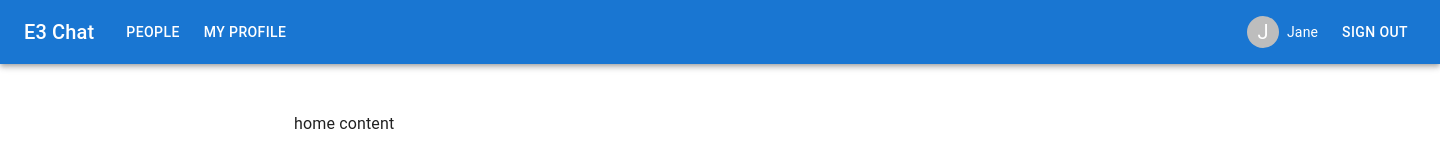
Test: AppLayout › navigates between pages from the toolbar
Click the link "People".
click(153, 32)  # box [126,24,180,40]
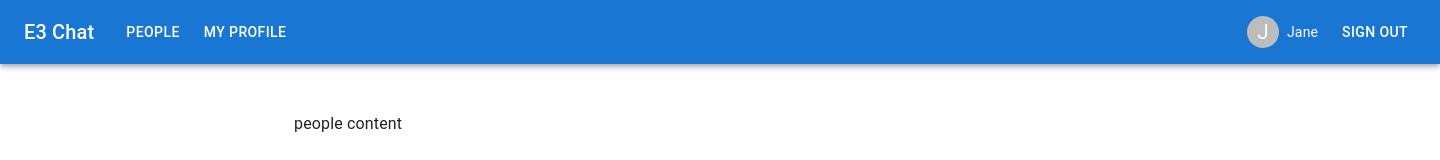
Result: the text "people content" is shown at [294,114,402,133]
Click the link "My profile".
click(245, 32)  # box [204,24,286,40]
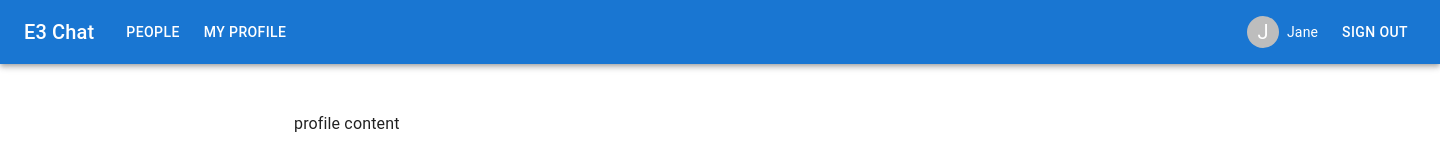
Result: the text "profile content" is shown at [294,114,400,133]
Click the link "E3 Chat".
click(59, 32)  # box [24,16,94,48]
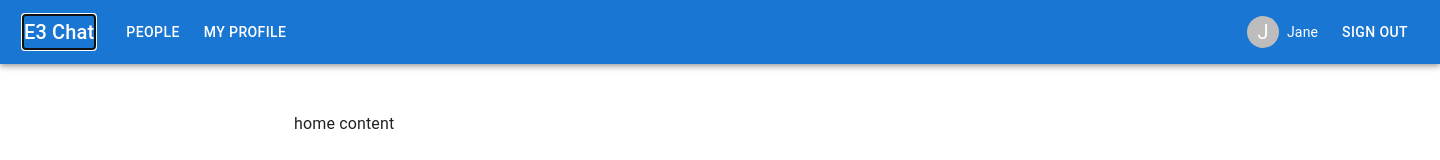
Result: the text "home content" is shown at [294,114,394,133]
